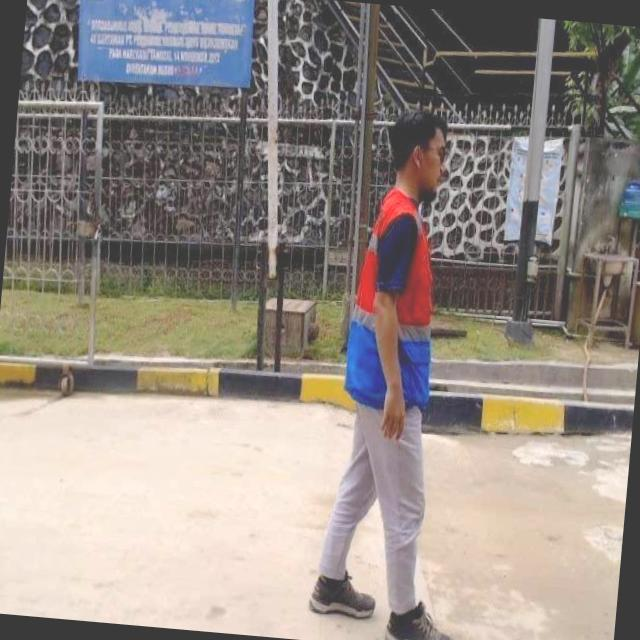vest: (341, 184, 454, 415)
